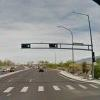Crosswalk: (5, 73, 100, 100)
